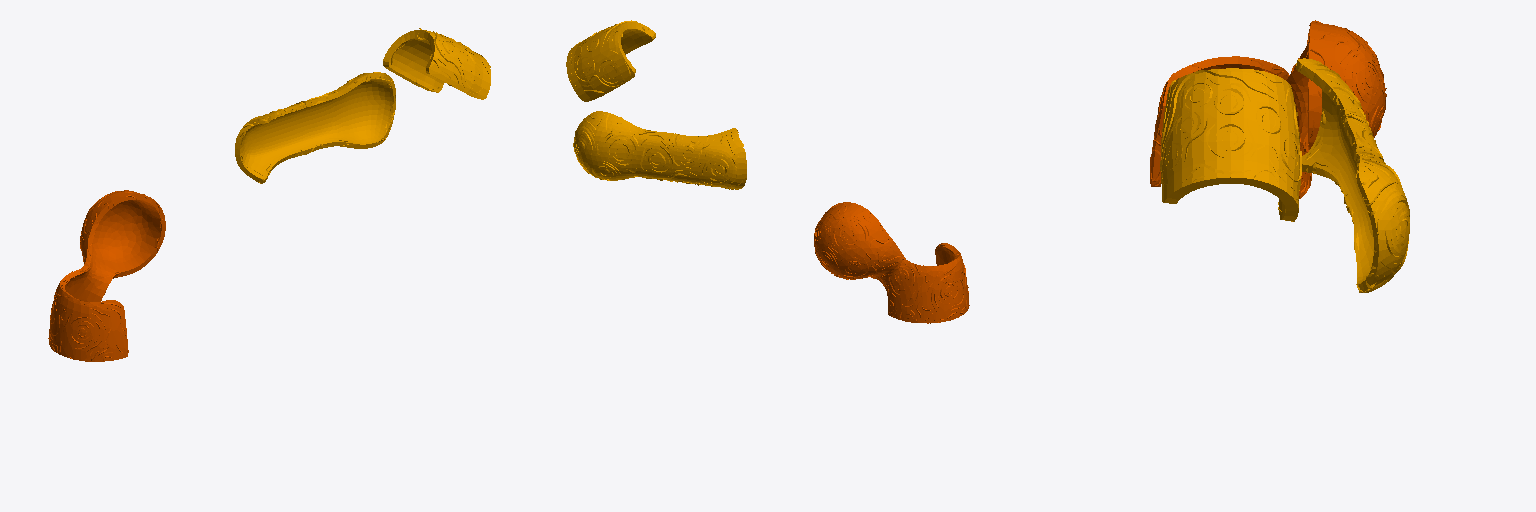
--- Render facts (derived) ---
Views: 3 orthographic renders of the robot side by side, from view 1: azimuth 30°, elevation 25°; view 2: azimuth 150°, elevation 25°; view 3: azimuth 270°, elevation 25°.
Robot: fr3 — 42 links, 41 joints (7 revolute, 34 fixed); root link base; default pose: all joints at 0 but 2 set to mid-range because 0 is outside their limits (fr3_joint4 = -1.6, fr3_joint6 = 2.53).
Visible links, largest first — view 1: link3_skin, link5_skin, link6_skin; view 2: link3_skin, link5_skin, link6_skin; view 3: link6_skin, link5_skin, link3_skin.
Link boxes in pixels (x1,y1,x2,y2): link3_skin: (48,190,165,361); link5_skin: (235,72,395,183); link6_skin: (383,28,490,99); link3_skin: (814,202,969,323); link5_skin: (573,111,746,189); link6_skin: (566,20,655,101); link6_skin: (1160,68,1301,221); link5_skin: (1295,58,1409,292); link3_skin: (1150,20,1386,198).
Size in the robot's own frame: 0.6432 by 0.1987 by 0.5794 metres.
Meshes: 12 distinct files referenced, 3 mesh visuals loaded (3 binary STL); not drawn: 9 (reference not matched to a file when rendering).

URDF robot description (fr3):
<?xml version="1.0" ?>
<!-- =================================================================================== -->
<!-- |    This document was autogenerated by xacro from src/gentact_ros_tools/urdf/robot/fr3_full_skin.xacro | -->
<!-- |    EDITING THIS FILE BY HAND IS NOT RECOMMENDED                                 | -->
<!-- =================================================================================== -->
<!-- =================================================================================== -->
<!-- |    This document was autogenerated by xacro from fr3.urdf.xacro                 | -->
<!-- |    EDITING THIS FILE BY HAND IS NOT RECOMMENDED                                 | -->
<!-- =================================================================================== -->
<robot name="fr3">
  <!-- safety_distance: Minimum safety distance in [m] by which the collision volumes are expanded and which is enforced during robot motions -->
  <!-- arm_id: Namespace of the robot arm. Serves to differentiate between arms in case of multiple instances. -->
  <!-- joint_limits: description of the joint limits that comes from a YAML file. Example definition: ${xacro.load_yaml('$(find gentact_ros_tools)/robots/fr3/joint_limits.yaml')} -->
  <!-- kinematics: description of the kinematics that comes from a YAML file. Example definition: ${xacro.load_yaml('$(find gentact_ros_tools)/robots/fr3/kinematics.yaml')} -->
  <!-- inertials: description of the inertials that comes from a YAML file. Example definition: ${xacro.load_yaml('$(find gentact_ros_tools)/robots/fr3/inertials.yaml')} -->
  <!-- dynamics: description of the dynamics that comes from a YAML file. Example definition: ${xacro.load_yaml('$(find gentact_ros_tools)/robots/fr3/dynamics.yaml')} -->
  <link name="base">
      </link>
  <joint name="fr3_base_joint" type="fixed">
    <parent link="base"/>
    <child link="fr3_link0"/>
    <origin rpy="0 0 0" xyz="0 0 0"/>
  </joint>
  <!-- sub-link defining detailed meshes for collision with environment -->
  <link name="fr3_link0">
    <visual name="fr3_link0_visual">
      <geometry>
        <mesh filename="package://gentact_ros_tools/meshes/robot_arms/fr3/visual/link0.dae"/>
      </geometry>
    </visual>
    <collision name="fr3_link0_collision">
      <geometry>
        <mesh filename="package://gentact_ros_tools/meshes/robot_arms/fr3/collision/link0.stl"/>
      </geometry>
    </collision>
    <inertial>
      <origin rpy="0 0 0" xyz="-0.0172 0.0004 0.0745"/>
      <mass value="2.3966"/>
      <inertia ixx="0.009" ixy="0.0" ixz="0.002" iyy="0.0115" iyz="0.0" izz="0.0085"/>
    </inertial>
  </link>
  <!-- sub-link defining detailed meshes for collision with environment -->
  <link name="fr3_link1">
    <visual name="fr3_link1_visual">
      <geometry>
        <mesh filename="package://gentact_ros_tools/meshes/robot_arms/fr3/visual/link1.dae"/>
      </geometry>
    </visual>
    <collision name="fr3_link1_collision">
      <geometry>
        <mesh filename="package://gentact_ros_tools/meshes/robot_arms/fr3/collision/link1.stl"/>
      </geometry>
    </collision>
    <inertial>
      <origin rpy="0 0 0" xyz="0.0000004128 -0.0181251324 -0.0386035970"/>
      <mass value="2.9274653454"/>
      <inertia ixx="0.023927316485107913" ixy="1.3317903455714081e-05" ixz="-0.00011404774918616684" iyy="0.0224821613275756" iyz="-0.0019950320628240115" izz="0.006350098258530016"/>
    </inertial>
  </link>
  <joint name="fr3_joint1" type="revolute">
    <origin rpy="0 0 0" xyz="0 0 0.333"/>
    <parent link="fr3_link0"/>
    <child link="fr3_link1"/>
    <axis xyz="0 0 1"/>
    <limit effort="87.0" lower="-2.7437" upper="2.7437" velocity="2.62"/>
    <safety_controller k_position="100.0" k_velocity="40.0" soft_lower_limit="-2.7437" soft_upper_limit="2.7437"/>
    <dynamics D="1" K="7000" damping="0.003" friction="0.2" mu_coulomb="0" mu_viscous="16"/>
  </joint>
  <!-- sub-link defining detailed meshes for collision with environment -->
  <link name="fr3_link2">
    <visual name="fr3_link2_visual">
      <geometry>
        <mesh filename="package://gentact_ros_tools/meshes/robot_arms/fr3/visual/link2.dae"/>
      </geometry>
    </visual>
    <collision name="fr3_link2_collision">
      <geometry>
        <mesh filename="package://gentact_ros_tools/meshes/robot_arms/fr3/collision/link2.stl"/>
      </geometry>
    </collision>
    <inertial>
      <origin rpy="0 0 0" xyz="0.0031828864 -0.0743221644 0.0088146084"/>
      <mass value="2.9355370338"/>
      <inertia ixx="0.041938946257609425" ixy="0.00020257331521090626" ixz="0.004077784227179924" iyy="0.02514514885014724" iyz="-0.0042252158006570156" izz="0.06170214472888839"/>
    </inertial>
  </link>
  <joint name="fr3_joint2" type="revolute">
    <origin rpy="-1.570796326794897 0 0" xyz="0 0 0"/>
    <parent link="fr3_link1"/>
    <child link="fr3_link2"/>
    <axis xyz="0 0 1"/>
    <limit effort="87.0" lower="-1.7837" upper="1.7837" velocity="2.62"/>
    <safety_controller k_position="100.0" k_velocity="40.0" soft_lower_limit="-1.7837" soft_upper_limit="1.7837"/>
    <dynamics D="1" K="7000" damping="0.003" friction="0.2" mu_coulomb="0" mu_viscous="16"/>
  </joint>
  <!-- [m] -->
  <link name="link2_skin">
    <visual>
      <origin rpy="0 0 0" xyz="0 0 0"/>
      <geometry>
        <mesh filename="package://gentact_ros_tools/meshes/skin/self-cap/link2_fancy.stl" scale="1 1 1"/>
      </geometry>
    </visual>
  </link>
  <joint name="link2_base_joint" type="fixed">
    <origin rpy="1.5707 0 0" xyz="0 0 0"/>
    <parent link="fr3_link2"/>
    <child link="link2_skin"/>
  </joint>
  <joint name="link2_sensor_0_joint" type="fixed">
    <origin rpy="1.670 -0.000 -2.166" xyz="-0.048 0.113 -0.006"/>
    <axis xyz="-0.824 0.558 -0.099"/>
    <parent link="link2_skin"/>
    <child link="link2_sensor_0"/>
  </joint>
  <link name="link2_sensor_0">
    <visual>
      <geometry>
        <sphere radius="0.0"/>
        <!-- [m] -->
      </geometry>
    </visual>
    <collision>
      <geometry>
        <sphere radius="0.0"/>
        <!-- [m] -->
      </geometry>
    </collision>
  </link>
  <joint name="link2_sensor_1_joint" type="fixed">
    <origin rpy="1.526 -0.000 2.508" xyz="0.032 0.053 0.147"/>
    <axis xyz="0.592 0.805 0.044"/>
    <parent link="link2_skin"/>
    <child link="link2_sensor_1"/>
  </joint>
  <link name="link2_sensor_1">
    <visual>
      <geometry>
        <sphere radius="0.0"/>
        <!-- [m] -->
      </geometry>
    </visual>
    <collision>
      <geometry>
        <sphere radius="0.0"/>
        <!-- [m] -->
      </geometry>
    </collision>
  </link>
  <joint name="link2_sensor_2_joint" type="fixed">
    <origin rpy="1.549 -0.000 -2.303" xyz="-0.046 0.040 0.162"/>
    <axis xyz="-0.744 0.668 0.022"/>
    <parent link="link2_skin"/>
    <child link="link2_sensor_2"/>
  </joint>
  <link name="link2_sensor_2">
    <visual>
      <geometry>
        <sphere radius="0.0"/>
        <!-- [m] -->
      </geometry>
    </visual>
    <collision>
      <geometry>
        <sphere radius="0.0"/>
        <!-- [m] -->
      </geometry>
    </collision>
  </link>
  <joint name="link2_sensor_3_joint" type="fixed">
    <origin rpy="1.513 -0.000 2.207" xyz="0.050 0.110 0.007"/>
    <axis xyz="0.803 0.593 0.058"/>
    <parent link="link2_skin"/>
    <child link="link2_sensor_3"/>
  </joint>
  <link name="link2_sensor_3">
    <visual>
      <geometry>
        <sphere radius="0.0"/>
        <!-- [m] -->
      </geometry>
    </visual>
    <collision>
      <geometry>
        <sphere radius="0.0"/>
        <!-- [m] -->
      </geometry>
    </collision>
  </link>
  <joint name="link2_sensor_4_joint" type="fixed">
    <origin rpy="1.107 0.000 3.050" xyz="0.004 0.074 0.093"/>
    <axis xyz="0.081 0.89 0.448"/>
    <parent link="link2_skin"/>
    <child link="link2_sensor_4"/>
  </joint>
  <link name="link2_sensor_4">
    <visual>
      <geometry>
        <sphere radius="0.0"/>
        <!-- [m] -->
      </geometry>
    </visual>
    <collision>
      <geometry>
        <sphere radius="0.0"/>
        <!-- [m] -->
      </geometry>
    </collision>
  </link>
  <joint name="link2_sensor_5_joint" type="fixed">
    <origin rpy="0.869 -0.000 3.063" xyz="0.001 0.117 0.045"/>
    <axis xyz="0.06 0.761 0.646"/>
    <parent link="link2_skin"/>
    <child link="link2_sensor_5"/>
  </joint>
  <link name="link2_sensor_5">
    <visual>
      <geometry>
        <sphere radius="0.0"/>
        <!-- [m] -->
      </geometry>
    </visual>
    <collision>
      <geometry>
        <sphere radius="0.0"/>
        <!-- [m] -->
      </geometry>
    </collision>
  </link>
  <joint name="link2_sensor_6_joint" type="fixed">
    <origin rpy="-0.676 -3.142 -0.578" xyz="0.019 0.111 -0.046"/>
    <axis xyz="0.342 0.524 -0.78"/>
    <parent link="link2_skin"/>
    <child link="link2_sensor_6"/>
  </joint>
  <link name="link2_sensor_6">
    <visual>
      <geometry>
        <sphere radius="0.0"/>
        <!-- [m] -->
      </geometry>
    </visual>
    <collision>
      <geometry>
        <sphere radius="0.0"/>
        <!-- [m] -->
      </geometry>
    </collision>
  </link>
  <!-- sub-link defining detailed meshes for collision with environment -->
  <link name="fr3_link3">
    <visual name="fr3_link3_visual">
      <geometry>
        <mesh filename="package://gentact_ros_tools/meshes/robot_arms/fr3/visual/link3.dae"/>
      </geometry>
    </visual>
    <collision name="fr3_link3_collision">
      <geometry>
        <mesh filename="package://gentact_ros_tools/meshes/robot_arms/fr3/collision/link3.stl"/>
      </geometry>
    </collision>
    <inertial>
      <origin rpy="0 0 0" xyz="0.0407015686 -0.0048200565 -0.0289730823"/>
      <mass value="2.2449013699"/>
      <inertia ixx="0.02410142547240885" ixy="0.002404694559042109" ixz="-0.002856269270114313" iyy="0.01974053266708178" iyz="-0.002104212683891874" izz="0.019044494482244823"/>
    </inertial>
  </link>
  <joint name="fr3_joint3" type="revolute">
    <origin rpy="1.570796326794897 0 0" xyz="0 -0.316 0"/>
    <parent link="fr3_link2"/>
    <child link="fr3_link3"/>
    <axis xyz="0 0 1"/>
    <limit effort="87.0" lower="-2.9007" upper="2.9007" velocity="2.62"/>
    <safety_controller k_position="100.0" k_velocity="40.0" soft_lower_limit="-2.9007" soft_upper_limit="2.9007"/>
    <dynamics D="1" K="7000" damping="0.003" friction="0.2" mu_coulomb="0" mu_viscous="16"/>
  </joint>
  <!-- [m] -->
  <link name="link3_skin">
    <visual>
      <origin rpy="0 0 0" xyz="0 0 0"/>
      <geometry>
        <mesh filename="package://gentact_ros_tools/meshes/skin/self-cap/link3_fancy.stl" scale="1 1 1"/>
      </geometry>
    </visual>
  </link>
  <joint name="link3_base_joint" type="fixed">
    <origin rpy="0 0 0" xyz="0 0 0"/>
    <parent link="fr3_link3"/>
    <child link="link3_skin"/>
  </joint>
  <joint name="link3_sensor_0_joint" type="fixed">
    <origin rpy="1.392 0.000 -3.082" xyz="0.008 0.051 -0.043"/>
    <axis xyz="-0.059 0.982 0.178"/>
    <parent link="link3_skin"/>
    <child link="link3_sensor_0"/>
  </joint>
  <link name="link3_sensor_0">
    <visual>
      <geometry>
        <sphere radius="0.0"/>
        <!-- [m] -->
      </geometry>
    </visual>
    <collision>
      <geometry>
        <sphere radius="0.0"/>
        <!-- [m] -->
      </geometry>
    </collision>
  </link>
  <joint name="link3_sensor_1_joint" type="fixed">
    <origin rpy="1.768 -0.000 2.918" xyz="0.097 0.113 -0.015"/>
    <axis xyz="0.217 0.956 -0.196"/>
    <parent link="link3_skin"/>
    <child link="link3_sensor_1"/>
  </joint>
  <link name="link3_sensor_1">
    <visual>
      <geometry>
        <sphere radius="0.0"/>
        <!-- [m] -->
      </geometry>
    </visual>
    <collision>
      <geometry>
        <sphere radius="0.0"/>
        <!-- [m] -->
      </geometry>
    </collision>
  </link>
  <joint name="link3_sensor_2_joint" type="fixed">
    <origin rpy="1.433 0.000 -0.799" xyz="-0.041 -0.037 -0.071"/>
    <axis xyz="-0.71 -0.691 0.137"/>
    <parent link="link3_skin"/>
    <child link="link3_sensor_2"/>
  </joint>
  <link name="link3_sensor_2">
    <visual>
      <geometry>
        <sphere radius="0.0"/>
        <!-- [m] -->
      </geometry>
    </visual>
    <collision>
      <geometry>
        <sphere radius="0.0"/>
        <!-- [m] -->
      </geometry>
    </collision>
  </link>
  <joint name="link3_sensor_3_joint" type="fixed">
    <origin rpy="1.189 -0.000 2.713" xyz="0.107 0.106 0.026"/>
    <axis xyz="0.386 0.844 0.373"/>
    <parent link="link3_skin"/>
    <child link="link3_sensor_3"/>
  </joint>
  <link name="link3_sensor_3">
    <visual>
      <geometry>
        <sphere radius="0.0"/>
        <!-- [m] -->
      </geometry>
    </visual>
    <collision>
      <geometry>
        <sphere radius="0.0"/>
        <!-- [m] -->
      </geometry>
    </collision>
  </link>
  <joint name="link3_sensor_4_joint" type="fixed">
    <origin rpy="1.084 -0.000 -2.868" xyz="0.067 0.106 0.031"/>
    <axis xyz="-0.239 0.851 0.468"/>
    <parent link="link3_skin"/>
    <child link="link3_sensor_4"/>
  </joint>
  <link name="link3_sensor_4">
    <visual>
      <geometry>
        <sphere radius="0.0"/>
        <!-- [m] -->
      </geometry>
    </visual>
    <collision>
      <geometry>
        <sphere radius="0.0"/>
        <!-- [m] -->
      </geometry>
    </collision>
  </link>
  <joint name="link3_sensor_5_joint" type="fixed">
    <origin rpy="1.838 0.000 -2.747" xyz="0.057 0.108 -0.019"/>
    <axis xyz="-0.371 0.89 -0.264"/>
    <parent link="link3_skin"/>
    <child link="link3_sensor_5"/>
  </joint>
  <link name="link3_sensor_5">
    <visual>
      <geometry>
        <sphere radius="0.0"/>
        <!-- [m] -->
      </geometry>
    </visual>
    <collision>
      <geometry>
        <sphere radius="0.0"/>
        <!-- [m] -->
      </geometry>
    </collision>
  </link>
  <joint name="link3_sensor_6_joint" type="fixed">
    <origin rpy="1.426 0.000 -2.050" xyz="-0.050 0.023 -0.063"/>
    <axis xyz="-0.878 0.457 0.145"/>
    <parent link="link3_skin"/>
    <child link="link3_sensor_6"/>
  </joint>
  <link name="link3_sensor_6">
    <visual>
      <geometry>
        <sphere radius="0.0"/>
        <!-- [m] -->
      </geometry>
    </visual>
    <collision>
      <geometry>
        <sphere radius="0.0"/>
        <!-- [m] -->
      </geometry>
    </collision>
  </link>
  <joint name="link3_sensor_7_joint" type="fixed">
    <origin rpy="-0.311 3.142 -0.185" xyz="0.085 0.086 -0.050"/>
    <axis xyz="0.056 0.301 -0.952"/>
    <parent link="link3_skin"/>
    <child link="link3_sensor_7"/>
  </joint>
  <link name="link3_sensor_7">
    <visual>
      <geometry>
        <sphere radius="0.0"/>
        <!-- [m] -->
      </geometry>
    </visual>
    <collision>
      <geometry>
        <sphere radius="0.0"/>
        <!-- [m] -->
      </geometry>
    </collision>
  </link>
  <!-- sub-link defining detailed meshes for collision with environment -->
  <link name="fr3_link4">
    <visual name="fr3_link4_visual">
      <geometry>
        <mesh filename="package://gentact_ros_tools/meshes/robot_arms/fr3/visual/link4.dae"/>
      </geometry>
    </visual>
    <collision name="fr3_link4_collision">
      <geometry>
        <mesh filename="package://gentact_ros_tools/meshes/robot_arms/fr3/collision/link4.stl"/>
      </geometry>
    </collision>
    <inertial>
      <origin rpy="0 0 0" xyz="-0.0459100965 0.0630492960 -0.0085187868"/>
      <mass value="2.6155955791"/>
      <inertia ixx="0.03452998321913202" ixy="0.01322552265982813" ixz="0.01015142998484113" iyy="0.028881621933049058" iyz="-0.0009762833870704552" izz="0.04125471171146641"/>
    </inertial>
  </link>
  <joint name="fr3_joint4" type="revolute">
    <origin rpy="1.570796326794897 0 0" xyz="0.0825 0 0"/>
    <parent link="fr3_link3"/>
    <child link="fr3_link4"/>
    <axis xyz="0 0 1"/>
    <limit effort="87.0" lower="-3.0421" upper="-0.1518" velocity="2.62"/>
    <safety_controller k_position="100.0" k_velocity="40.0" soft_lower_limit="-3.0421" soft_upper_limit="-0.1518"/>
    <dynamics D="1" K="7000" damping="0.003" friction="0.2" mu_coulomb="0" mu_viscous="16"/>
  </joint>
  <!-- sub-link defining detailed meshes for collision with environment -->
  <link name="fr3_link5">
    <visual name="fr3_link5_visual">
      <geometry>
        <mesh filename="package://gentact_ros_tools/meshes/robot_arms/fr3/visual/link5.dae"/>
      </geometry>
    </visual>
    <collision name="fr3_link5_collision">
      <geometry>
        <mesh filename="package://gentact_ros_tools/meshes/robot_arms/fr3/collision/link5.stl"/>
      </geometry>
    </collision>
    <inertial>
      <origin rpy="0 0 0" xyz="-0.0016039605 0.0292536262 -0.0972965990"/>
      <mass value="2.3271207594"/>
      <inertia ixx="0.051610278463662895" ixy="-0.005715173387783472" ixz="-0.0035673167625872135" iyy="0.04787729713371481" iyz="0.010673985108535986" izz="0.016423625579357254"/>
    </inertial>
  </link>
  <joint name="fr3_joint5" type="revolute">
    <origin rpy="-1.570796326794897 0 0" xyz="-0.0825 0.384 0"/>
    <parent link="fr3_link4"/>
    <child link="fr3_link5"/>
    <axis xyz="0 0 1"/>
    <limit effort="12.0" lower="-2.8065" upper="2.8065" velocity="5.26"/>
    <safety_controller k_position="100.0" k_velocity="40.0" soft_lower_limit="-2.8065" soft_upper_limit="2.8065"/>
    <dynamics D="1" K="7000" damping="0.003" friction="0.2" mu_coulomb="0" mu_viscous="16"/>
  </joint>
  <!-- [m] -->
  <link name="link5_skin">
    <visual>
      <origin rpy="0 0 0" xyz="0 0 0"/>
      <geometry>
        <mesh filename="package://gentact_ros_tools/meshes/skin/self-cap/link5_fancy.stl" scale="1 1 1"/>
      </geometry>
    </visual>
  </link>
  <joint name="link5_base_joint" type="fixed">
    <origin rpy="0 0 0" xyz="0 0 0"/>
    <parent link="fr3_link5"/>
    <child link="link5_skin"/>
  </joint>
  <joint name="link5_sensor_5_joint" type="fixed">
    <origin rpy="-1.403 -3.142 0.049" xyz="-0.004 0.115 -0.089"/>
    <axis xyz="-0.049 0.985 -0.167"/>
    <parent link="link5_skin"/>
    <child link="link5_sensor_5"/>
  </joint>
  <link name="link5_sensor_5">
    <visual>
      <geometry>
        <sphere radius="0.0"/>
        <!-- [m] -->
      </geometry>
    </visual>
    <collision>
      <geometry>
        <sphere radius="0.0"/>
        <!-- [m] -->
      </geometry>
    </collision>
  </link>
  <joint name="link5_sensor_1_joint" type="fixed">
    <origin rpy="-1.229 -3.142 0.054" xyz="-0.007 0.127 -0.038"/>
    <axis xyz="-0.05 0.941 -0.335"/>
    <parent link="link5_skin"/>
    <child link="link5_sensor_1"/>
  </joint>
  <link name="link5_sensor_1">
    <visual>
      <geometry>
        <sphere radius="0.0"/>
        <!-- [m] -->
      </geometry>
    </visual>
    <collision>
      <geometry>
        <sphere radius="0.0"/>
        <!-- [m] -->
      </geometry>
    </collision>
  </link>
  <joint name="link5_sensor_4_joint" type="fixed">
    <origin rpy="1.760 -0.000 2.750" xyz="0.026 0.130 -0.013"/>
    <axis xyz="0.375 0.908 -0.188"/>
    <parent link="link5_skin"/>
    <child link="link5_sensor_4"/>
  </joint>
  <link name="link5_sensor_4">
    <visual>
      <geometry>
        <sphere radius="0.0"/>
        <!-- [m] -->
      </geometry>
    </visual>
    <collision>
      <geometry>
        <sphere radius="0.0"/>
        <!-- [m] -->
      </geometry>
    </collision>
  </link>
  <joint name="link5_sensor_2_joint" type="fixed">
    <origin rpy="1.754 0.000 -2.906" xyz="-0.016 0.104 -0.138"/>
    <axis xyz="-0.23 0.956 -0.183"/>
    <parent link="link5_skin"/>
    <child link="link5_sensor_2"/>
  </joint>
  <link name="link5_sensor_2">
    <visual>
      <geometry>
        <sphere radius="0.0"/>
        <!-- [m] -->
      </geometry>
    </visual>
    <collision>
      <geometry>
        <sphere radius="0.0"/>
        <!-- [m] -->
      </geometry>
    </collision>
  </link>
  <joint name="link5_sensor_3_joint" type="fixed">
    <origin rpy="1.136 0.000 -3.040" xyz="-0.007 0.133 0.023"/>
    <axis xyz="-0.092 0.902 0.422"/>
    <parent link="link5_skin"/>
    <child link="link5_sensor_3"/>
  </joint>
  <link name="link5_sensor_3">
    <visual>
      <geometry>
        <sphere radius="0.0"/>
        <!-- [m] -->
      </geometry>
    </visual>
    <collision>
      <geometry>
        <sphere radius="0.0"/>
        <!-- [m] -->
      </geometry>
    </collision>
  </link>
  <joint name="link5_sensor_0_joint" type="fixed">
    <origin rpy="-1.262 3.142 0.019" xyz="-0.000 0.096 -0.184"/>
    <axis xyz="-0.018 0.953 -0.304"/>
    <parent link="link5_skin"/>
    <child link="link5_sensor_0"/>
  </joint>
  <link name="link5_sensor_0">
    <visual>
      <geometry>
        <sphere radius="0.0"/>
        <!-- [m] -->
      </geometry>
    </visual>
    <collision>
      <geometry>
        <sphere radius="0.0"/>
        <!-- [m] -->
      </geometry>
    </collision>
  </link>
  <!-- sub-link defining detailed meshes for collision with environment -->
  <link name="fr3_link6">
    <visual name="fr3_link6_visual">
      <geometry>
        <mesh filename="package://gentact_ros_tools/meshes/robot_arms/fr3/visual/link6.dae"/>
      </geometry>
    </visual>
    <collision name="fr3_link6_collision">
      <geometry>
        <mesh filename="package://gentact_ros_tools/meshes/robot_arms/fr3/collision/link6.stl"/>
      </geometry>
    </collision>
    <inertial>
      <origin rpy="0 0 0" xyz="0.0597131221 -0.0410294666 -0.0101692726"/>
      <mass value="1.8170376524"/>
      <inertia ixx="0.005412333594383447" ixy="0.006193456360285834" ixz="0.0014219289306117652" iyy="0.014058329545509979" iyz="-0.0013140753741120031" izz="0.016080817924212554"/>
    </inertial>
  </link>
  <joint name="fr3_joint6" type="revolute">
    <origin rpy="1.570796326794897 0 0" xyz="0 0 0"/>
    <parent link="fr3_link5"/>
    <child link="fr3_link6"/>
    <axis xyz="0 0 1"/>
    <limit effort="12.0" lower="0.5445" upper="4.5169" velocity="4.18"/>
    <safety_controller k_position="100.0" k_velocity="40.0" soft_lower_limit="0.5445" soft_upper_limit="4.5169"/>
    <dynamics D="1" K="7000" damping="0.003" friction="0.2" mu_coulomb="0" mu_viscous="16"/>
  </joint>
  <!-- [m] -->
  <link name="link6_skin">
    <visual>
      <origin rpy="0 0 0" xyz="0 0 0"/>
      <geometry>
        <mesh filename="package://gentact_ros_tools/meshes/skin/self-cap/link6_fancy.stl" scale="1 1 1"/>
      </geometry>
    </visual>
  </link>
  <joint name="link6_base_joint" type="fixed">
    <origin rpy="-1.57079632679 0 0" xyz="0 0 0"/>
    <parent link="fr3_link6"/>
    <child link="link6_skin"/>
  </joint>
  <joint name="link6_sensor_0_joint" type="fixed">
    <origin rpy="1.582 0.000 0.494" xyz="0.117 -0.045 -0.004"/>
    <axis xyz="0.474 -0.881 -0.011"/>
    <parent link="link6_skin"/>
    <child link="link6_sensor_0"/>
  </joint>
  <link name="link6_sensor_0">
    <visual>
      <geometry>
        <sphere radius="0.0"/>
        <!-- [m] -->
      </geometry>
    </visual>
    <collision>
      <geometry>
        <sphere radius="0.0"/>
        <!-- [m] -->
      </geometry>
    </collision>
  </link>
  <joint name="link6_sensor_1_joint" type="fixed">
    <origin rpy="1.451 0.000 1.101" xyz="0.133 -0.025 0.039"/>
    <axis xyz="0.885 -0.449 0.12"/>
    <parent link="link6_skin"/>
    <child link="link6_sensor_1"/>
  </joint>
  <link name="link6_sensor_1">
    <visual>
      <geometry>
        <sphere radius="0.0"/>
        <!-- [m] -->
      </geometry>
    </visual>
    <collision>
      <geometry>
        <sphere radius="0.0"/>
        <!-- [m] -->
      </geometry>
    </collision>
  </link>
  <joint name="link6_sensor_2_joint" type="fixed">
    <origin rpy="1.487 -0.000 1.464" xyz="0.140 -0.002 0.030"/>
    <axis xyz="0.991 -0.106 0.084"/>
    <parent link="link6_skin"/>
    <child link="link6_sensor_2"/>
  </joint>
  <link name="link6_sensor_2">
    <visual>
      <geometry>
        <sphere radius="0.0"/>
        <!-- [m] -->
      </geometry>
    </visual>
    <collision>
      <geometry>
        <sphere radius="0.0"/>
        <!-- [m] -->
      </geometry>
    </collision>
  </link>
  <joint name="link6_sensor_3_joint" type="fixed">
    <origin rpy="1.585 -0.000 2.644" xyz="0.113 0.047 0.002"/>
    <axis xyz="0.477 0.879 -0.015"/>
    <parent link="link6_skin"/>
    <child link="link6_sensor_3"/>
  </joint>
  <link name="link6_sensor_3">
    <visual>
      <geometry>
        <sphere radius="0.0"/>
        <!-- [m] -->
      </geometry>
    </visual>
    <collision>
      <geometry>
        <sphere radius="0.0"/>
        <!-- [m] -->
      </geometry>
    </collision>
  </link>
  <joint name="link6_sensor_4_joint" type="fixed">
    <origin rpy="1.533 -0.000 2.048" xyz="0.132 0.029 0.018"/>
    <axis xyz="0.888 0.459 0.037"/>
    <parent link="link6_skin"/>
    <child link="link6_sensor_4"/>
  </joint>
  <link name="link6_sensor_4">
    <visual>
      <geometry>
        <sphere radius="0.0"/>
        <!-- [m] -->
      </geometry>
    </visual>
    <collision>
      <geometry>
        <sphere radius="0.0"/>
        <!-- [m] -->
      </geometry>
    </collision>
  </link>
  <joint name="link6_sensor_5_joint" type="fixed">
    <origin rpy="1.581 -0.000 1.470" xyz="0.141 -0.001 -0.002"/>
    <axis xyz="0.995 -0.1 -0.01"/>
    <parent link="link6_skin"/>
    <child link="link6_sensor_5"/>
  </joint>
  <link name="link6_sensor_5">
    <visual>
      <geometry>
        <sphere radius="0.0"/>
        <!-- [m] -->
      </geometry>
    </visual>
    <collision>
      <geometry>
        <sphere radius="0.0"/>
        <!-- [m] -->
      </geometry>
    </collision>
  </link>
  <joint name="link6_sensor_6_joint" type="fixed">
    <origin rpy="1.541 -0.000 0.888" xyz="0.130 -0.033 0.015"/>
    <axis xyz="0.776 -0.631 0.03"/>
    <parent link="link6_skin"/>
    <child link="link6_sensor_6"/>
  </joint>
  <link name="link6_sensor_6">
    <visual>
      <geometry>
        <sphere radius="0.0"/>
        <!-- [m] -->
      </geometry>
    </visual>
    <collision>
      <geometry>
        <sphere radius="0.0"/>
        <!-- [m] -->
      </geometry>
    </collision>
  </link>
  <joint name="link6_sensor_7_joint" type="fixed">
    <origin rpy="1.488 0.000 -3.049" xyz="0.087 0.051 0.036"/>
    <axis xyz="-0.092 0.992 0.083"/>
    <parent link="link6_skin"/>
    <child link="link6_sensor_7"/>
  </joint>
  <link name="link6_sensor_7">
    <visual>
      <geometry>
        <sphere radius="0.0"/>
        <!-- [m] -->
      </geometry>
    </visual>
    <collision>
      <geometry>
        <sphere radius="0.0"/>
        <!-- [m] -->
      </geometry>
    </collision>
  </link>
  <!-- sub-link defining detailed meshes for collision with environment -->
  <link name="fr3_link7">
    <visual name="fr3_link7_visual">
      <geometry>
        <mesh filename="package://gentact_ros_tools/meshes/robot_arms/fr3/visual/link7.dae"/>
      </geometry>
    </visual>
    <collision name="fr3_link7_collision">
      <geometry>
        <mesh filename="package://gentact_ros_tools/meshes/robot_arms/fr3/collision/link7.stl"/>
      </geometry>
    </collision>
    <inertial>
      <origin rpy="0 0 0" xyz="0.0045225817 0.0086261921 -0.0161633251"/>
      <mass value="0.6271432862"/>
      <inertia ixx="0.00021092389150104718" ixy="-2.433299114461931e-05" ixz="4.564480393778983e-05" iyy="0.00017718568002411474" iyz="8.744070223226438e-05" izz="5.993190599659971e-05"/>
    </inertial>
  </link>
  <joint name="fr3_joint7" type="revolute">
    <origin rpy="1.570796326794897 0 0" xyz="0.088 0 0"/>
    <parent link="fr3_link6"/>
    <child link="fr3_link7"/>
    <axis xyz="0 0 1"/>
    <limit effort="12.0" lower="-3.0159" upper="3.0159" velocity="5.26"/>
    <safety_controller k_position="100.0" k_velocity="40.0" soft_lower_limit="-3.0159" soft_upper_limit="3.0159"/>
    <dynamics D="1" K="7000" damping="0.003" friction="0.2" mu_coulomb="0" mu_viscous="16"/>
  </joint>
</robot>
